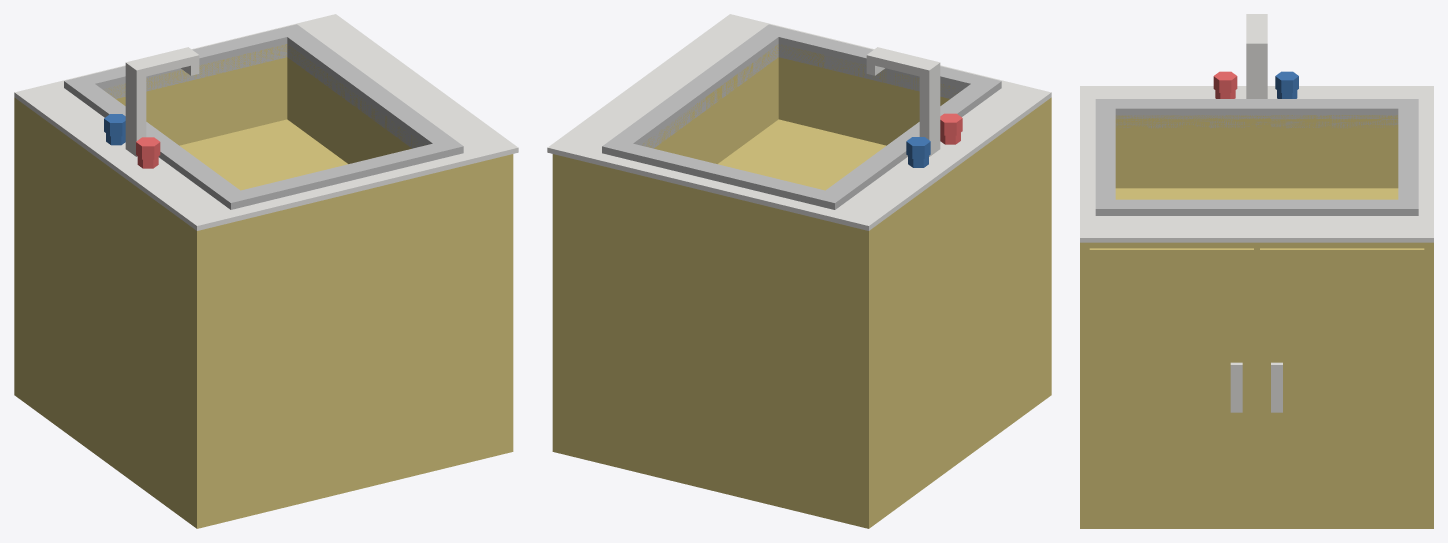
Rendered from KitchenTable1.fbx.
The picture shows the model from 3 angles, left to right: view 1: azimuth 30°, elevation 25°; view 2: azimuth 150°, elevation 25°; view 3: azimuth 270°, elevation 25°; orthographic projection. The views are drawn at different scales.
Parts seen in each view (by area): view 1: polySurface214; view 2: polySurface214; view 3: polySurface214.
Part boxes in pixels (bbox=[...]): polySurface214: bbox=[14, 14, 518, 528]; polySurface214: bbox=[547, 14, 1051, 528]; polySurface214: bbox=[1080, 14, 1433, 528].
Bounding box in the file's own units: 103 × 118 × 100.
